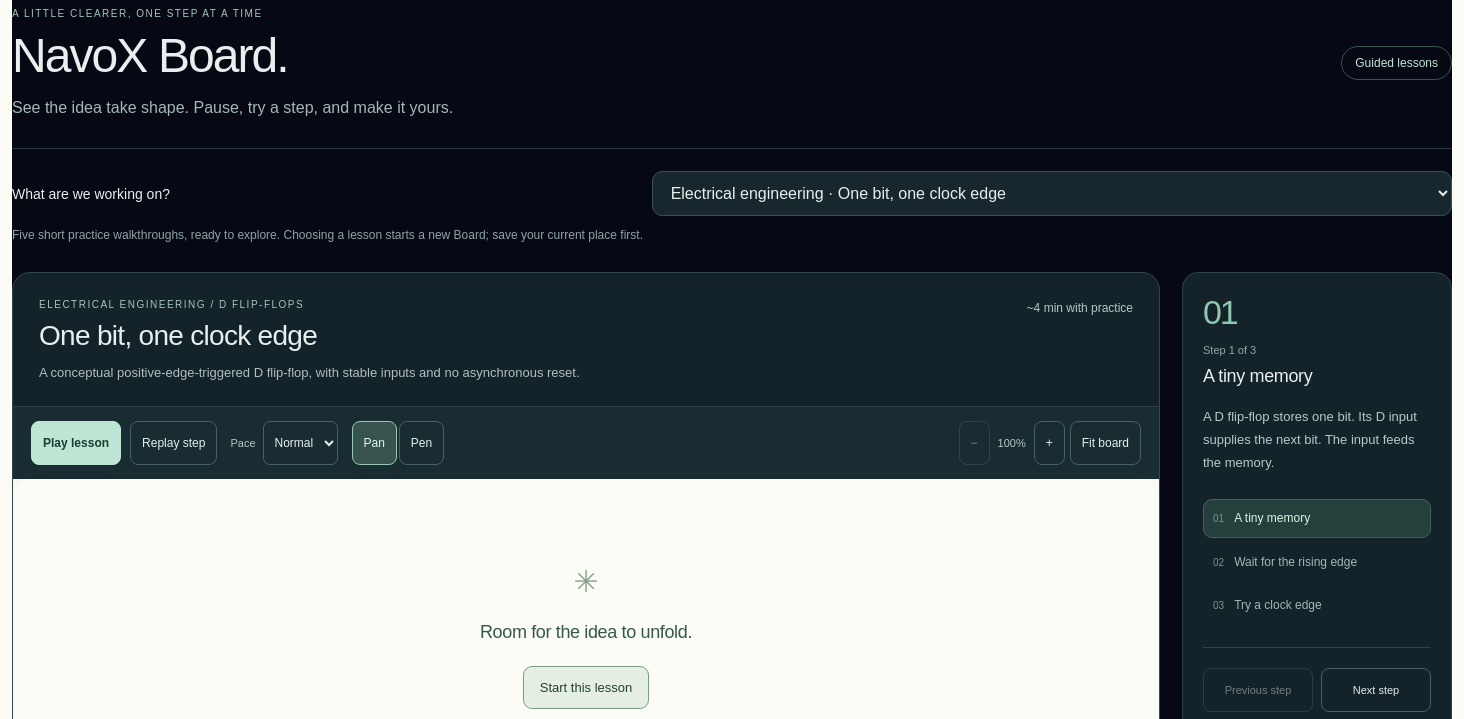
Test case: Board motion through the real lesson controls › withholds a quick check until its final action finishes drawing
This screenshot has width=1464, height=719.
Select "Calculus · Integration by parts, one choice at a time" in the dropdown with id "whiteboard-lesson" at (1052, 194), box [652,171,1452,216]
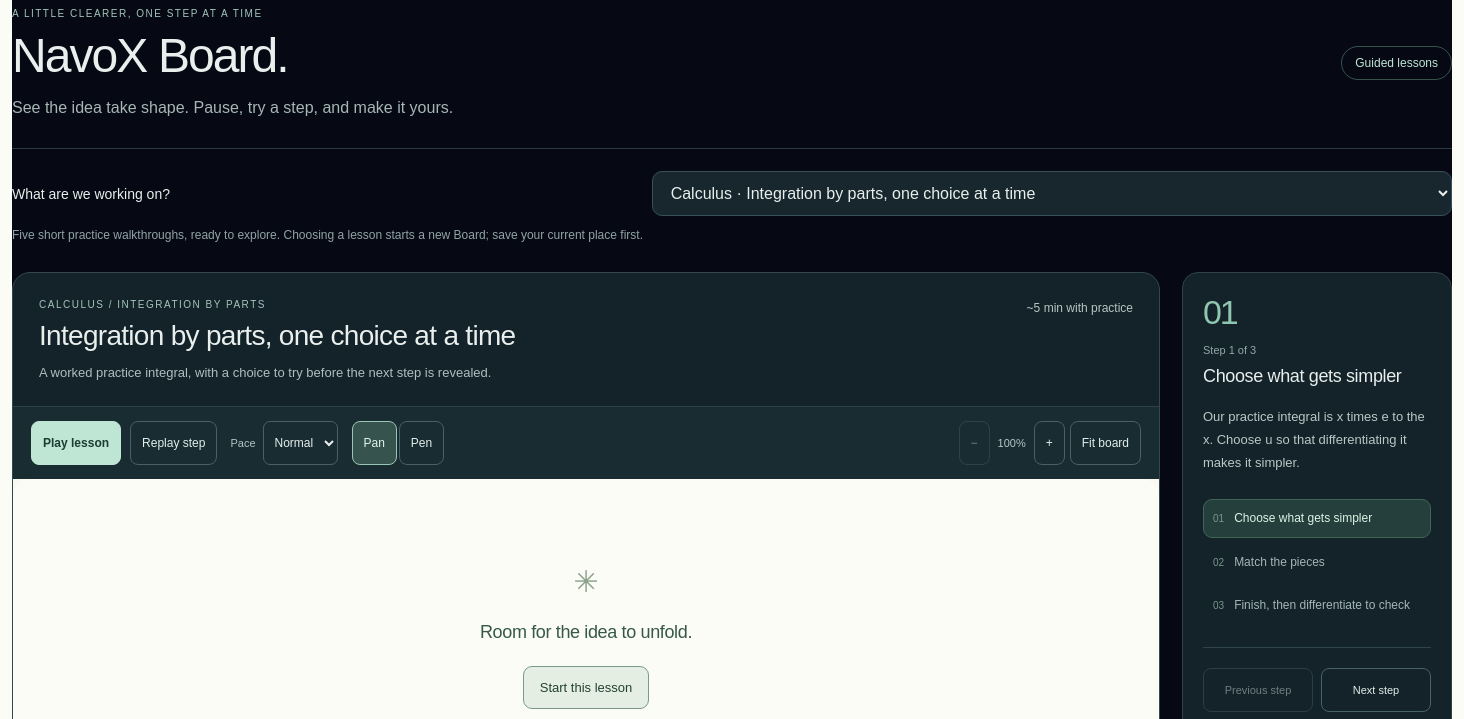
Click the button "Play lesson".
click(76, 443)  # box [31,421,121,465]
Wait 600 ms
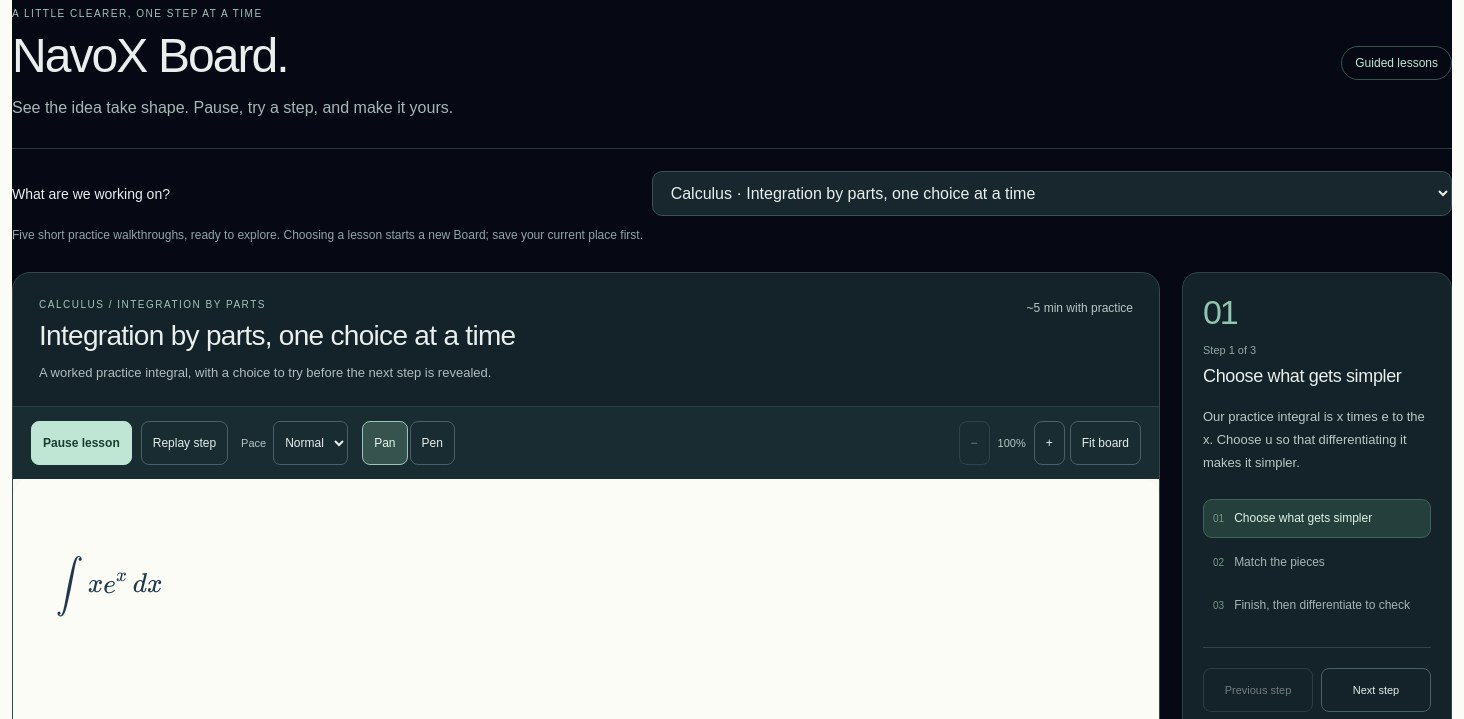
Click the button "Pause lesson".
click(81, 443)  # box [31,421,132,465]
Wait 60000 ms
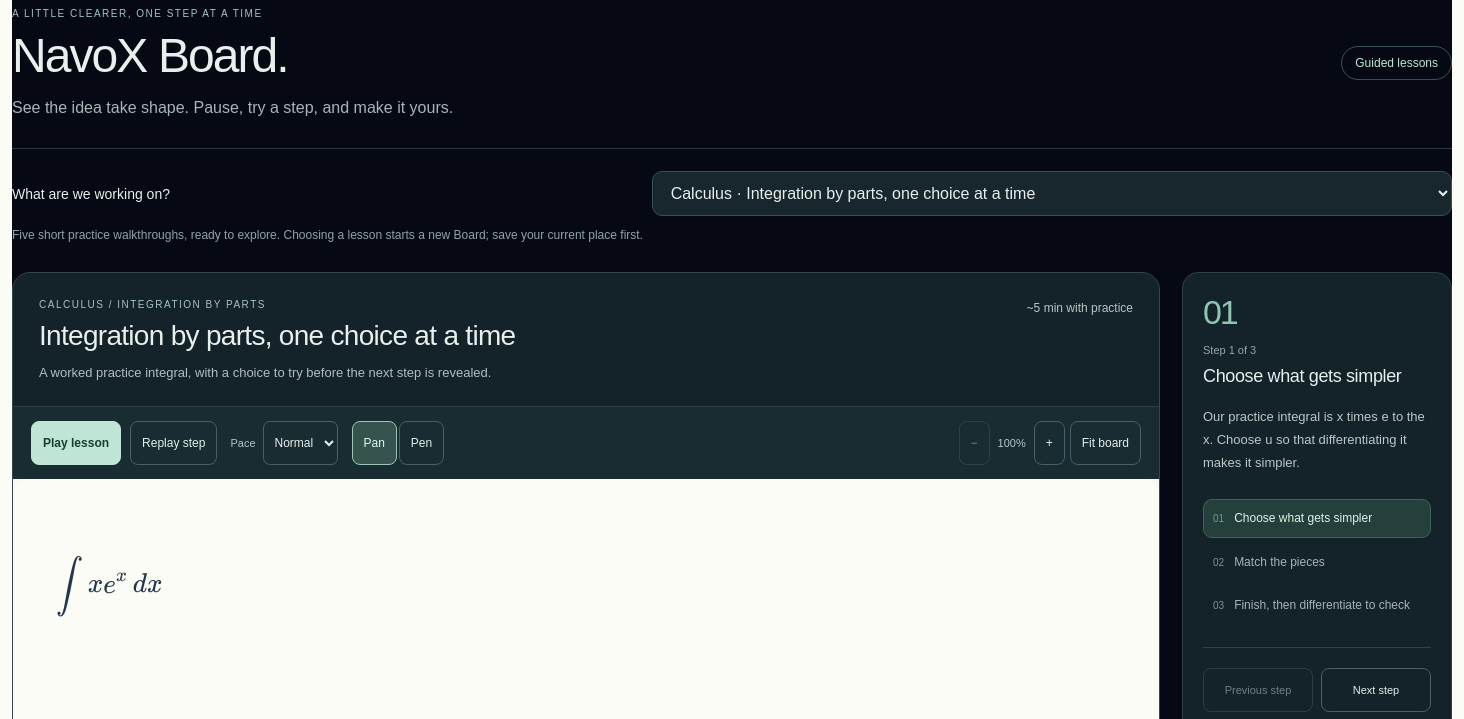
Click the button "Play lesson".
click(76, 443)  # box [31,421,121,465]
Wait 2000 ms
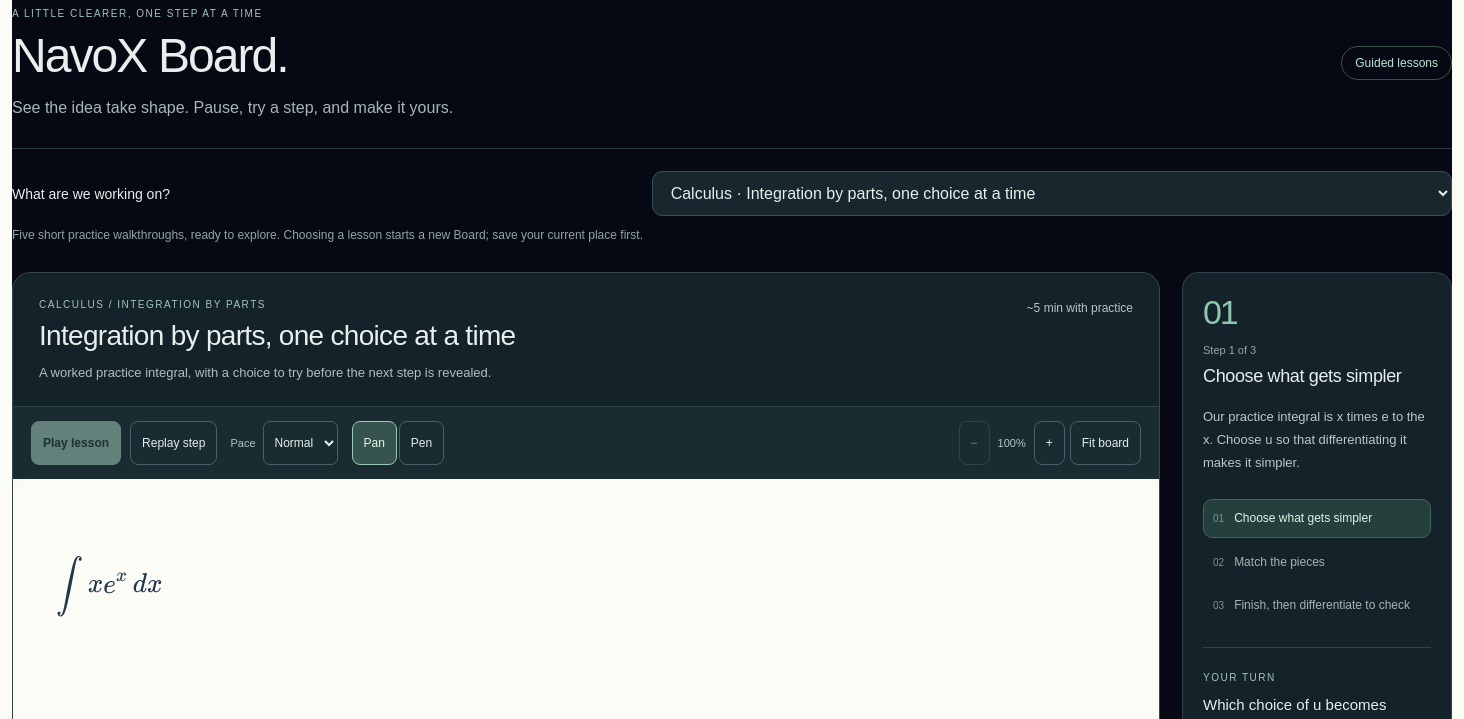
Now the button "Play lesson" is disabled, box [31,421,121,465]
